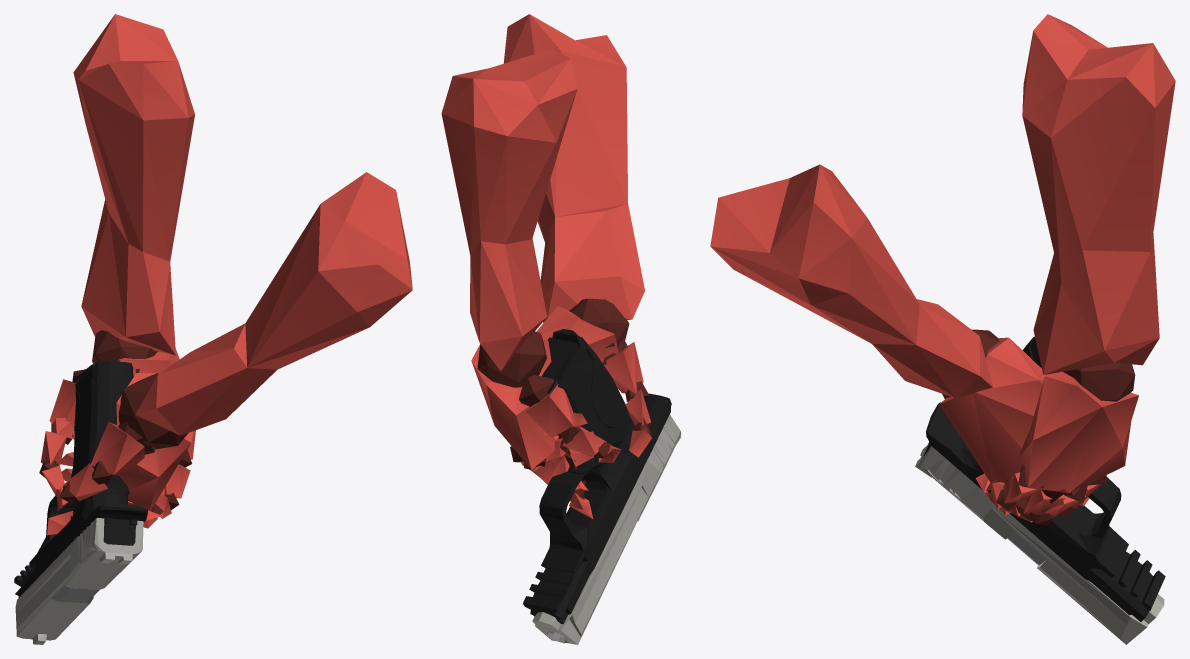
The model's file is M&P9shootCombatHigh.obj.
3 renders of one model, left to right at view 1: azimuth 30°, elevation 25°; view 2: azimuth 150°, elevation 25°; view 3: azimuth 270°, elevation 25°, orthographic. The views are drawn at different scales.
Parts seen in each view (by area): view 1: Beta_Surface, body_平面, slide_平面.002, Beta_Joints; view 2: Beta_Surface, body_平面, Beta_Joints, slide_平面.002, magazine_平面.003; view 3: Beta_Surface, body_平面, slide_平面.002, Beta_Joints.
Boxes of the visible parts, box(x1,y1,x2,y2) form: Beta_Surface: box(41, 14, 412, 535); body_平面: box(14, 360, 147, 597); slide_平面.002: box(15, 518, 143, 644); Beta_Joints: box(39, 330, 192, 519); Beta_Surface: box(441, 14, 651, 518); body_平面: box(523, 329, 671, 624); Beta_Joints: box(477, 298, 651, 502); slide_平面.002: box(532, 414, 681, 644); magazine_平面.003: box(541, 337, 578, 393); Beta_Surface: box(710, 14, 1175, 522); body_平面: box(926, 336, 1165, 621); slide_平面.002: box(915, 442, 1164, 644); Beta_Joints: box(942, 329, 1135, 525).
Size of the model in its own units: 35.07 by 79.32 by 52.31.
